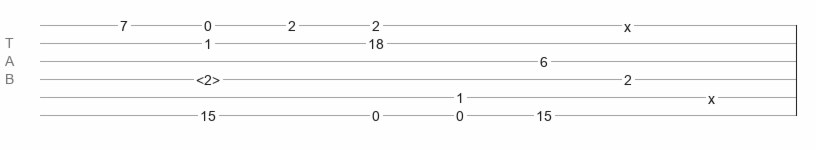0: (204, 18, 212, 28), (372, 108, 380, 118), (456, 108, 464, 118)
1: (204, 36, 212, 46), (456, 90, 464, 100)
15: (200, 108, 216, 118), (536, 108, 552, 118)
18: (368, 36, 384, 46)
2: (288, 18, 296, 28), (372, 18, 380, 28), (624, 72, 632, 82)
6: (540, 54, 548, 64)
7: (120, 18, 128, 28)
harmonic: (196, 72, 220, 82)
x: (624, 19, 631, 27), (708, 91, 715, 99)
